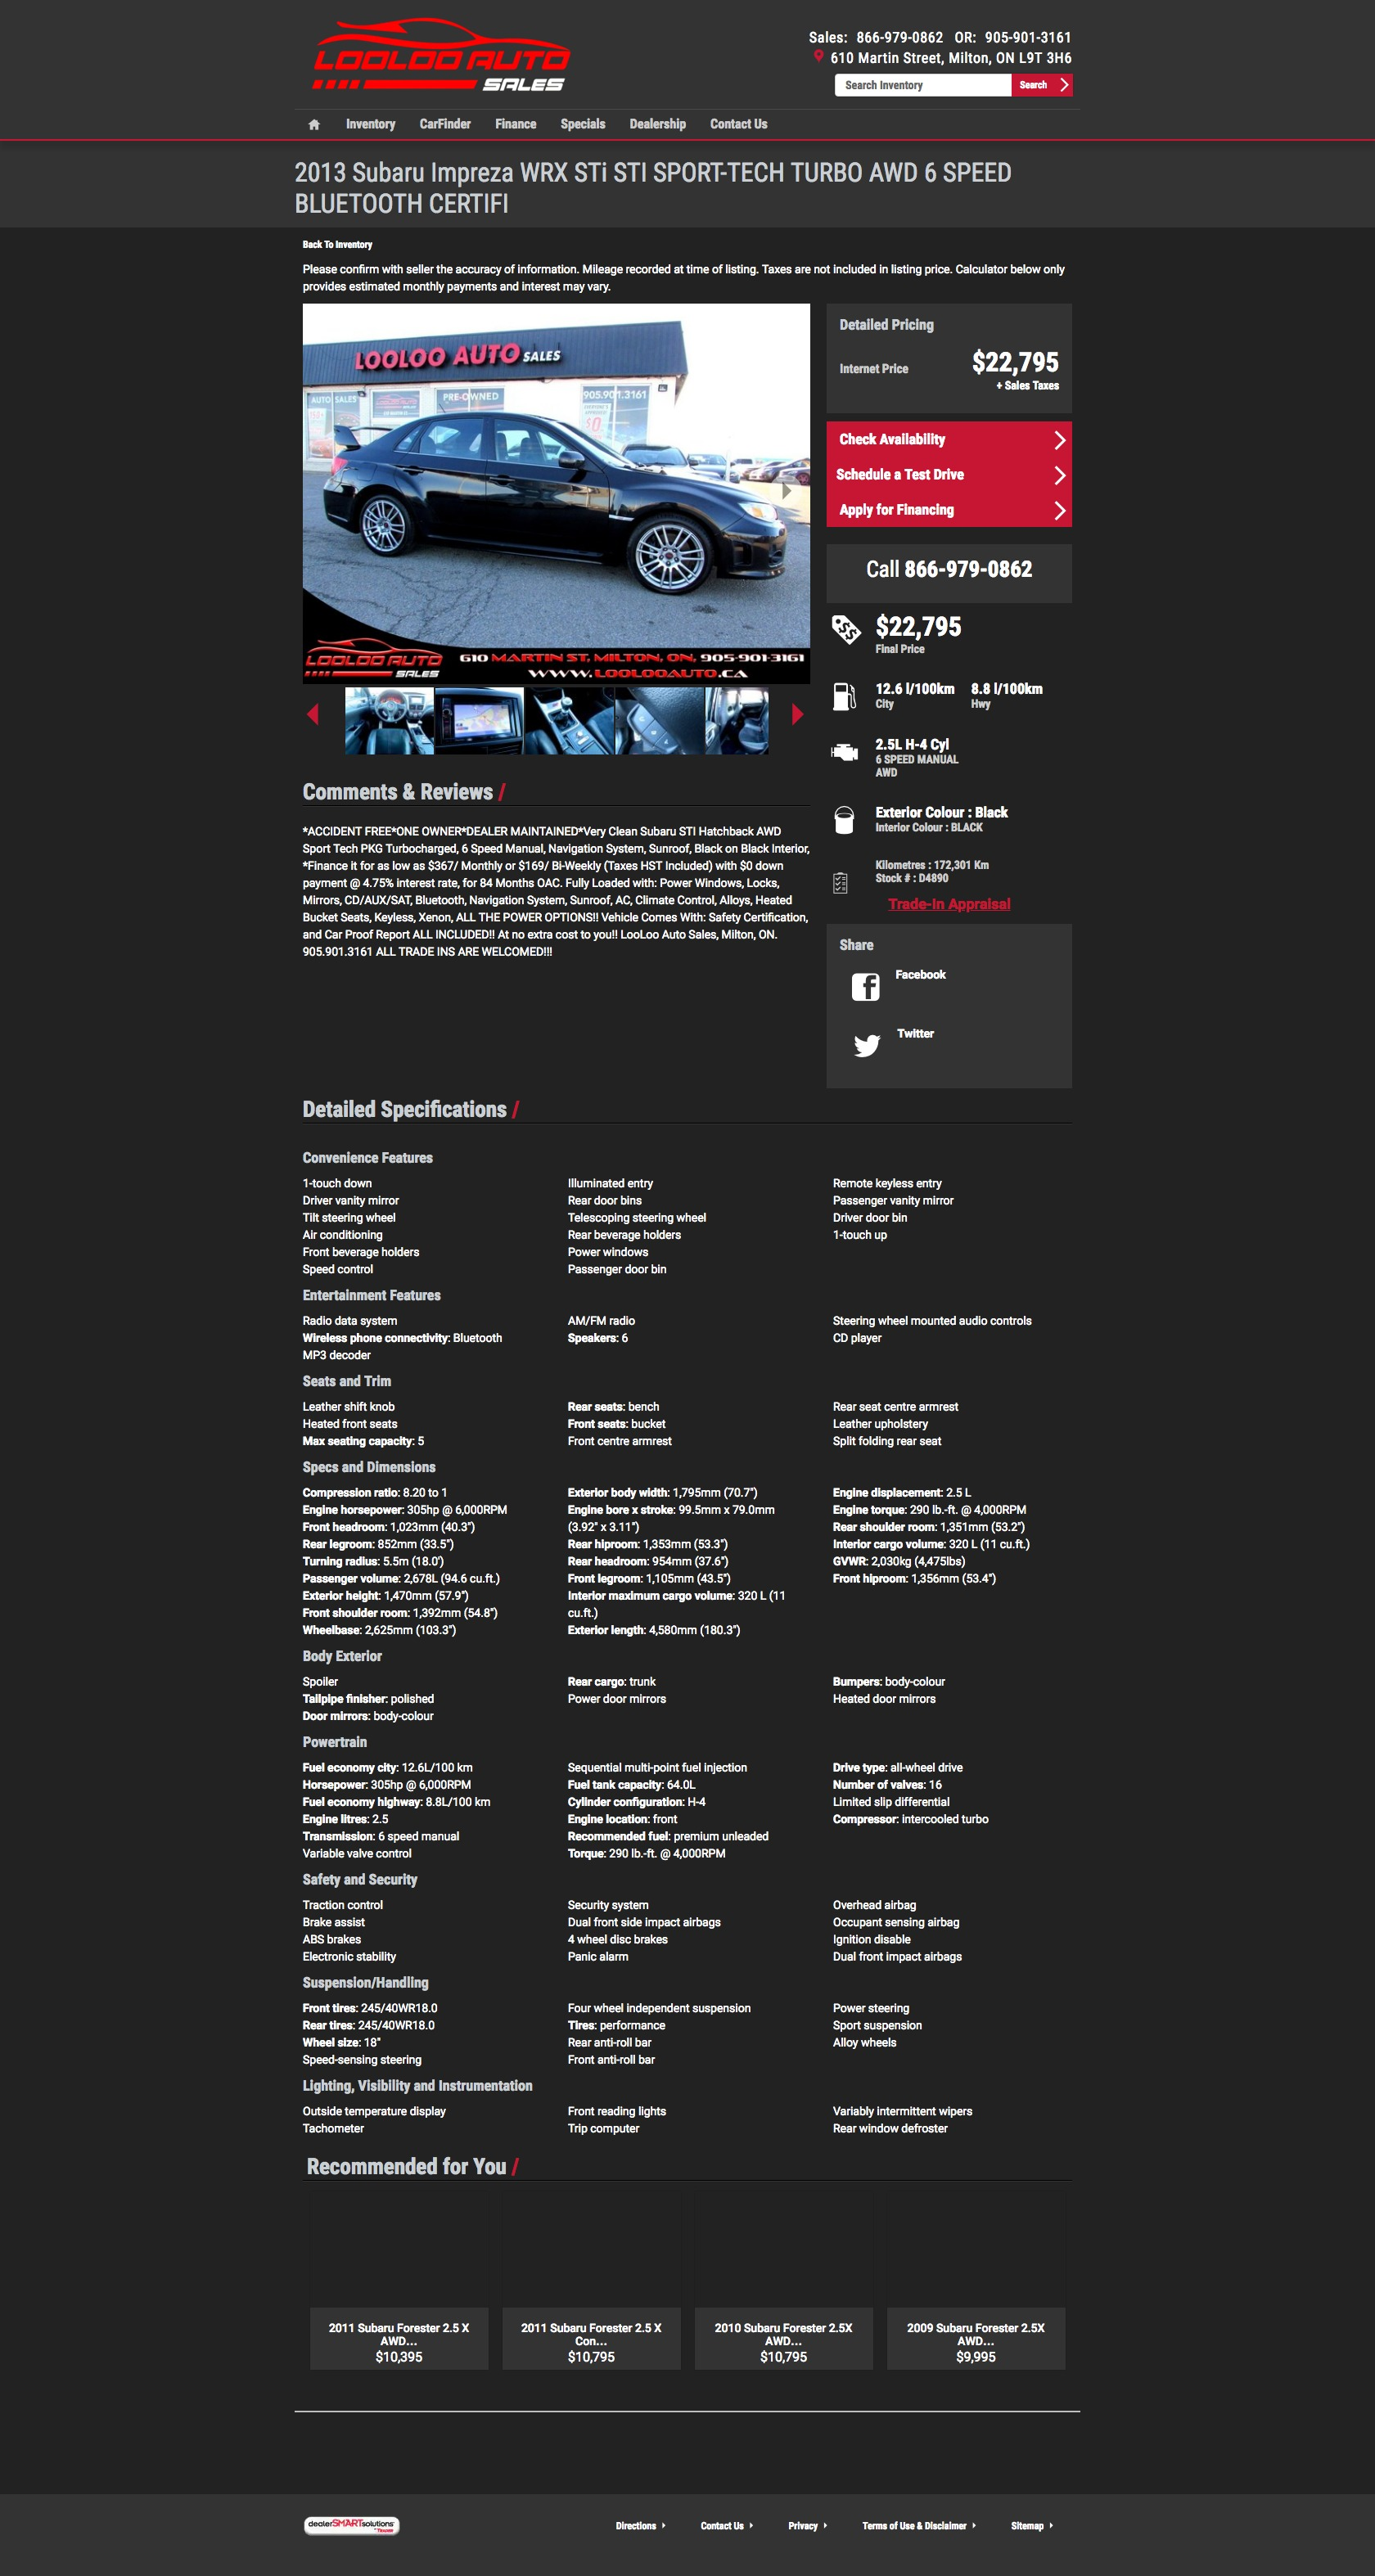car: (792, 704, 806, 729)
